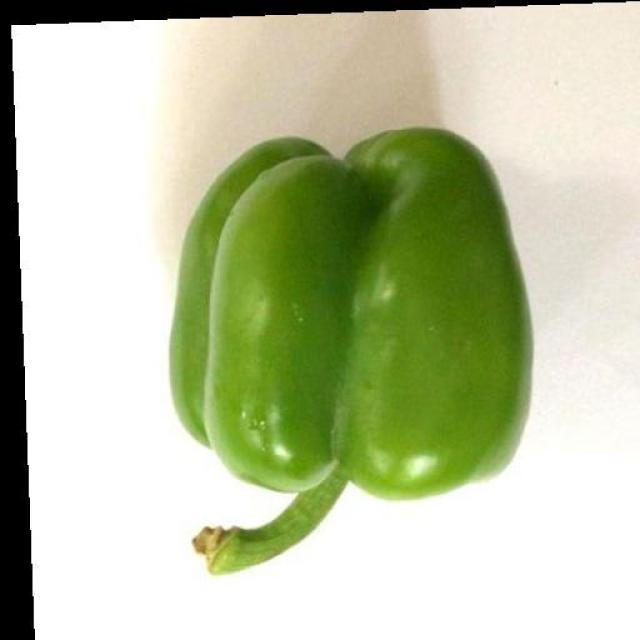Fresh_Capsicum: (168, 108, 535, 558)
